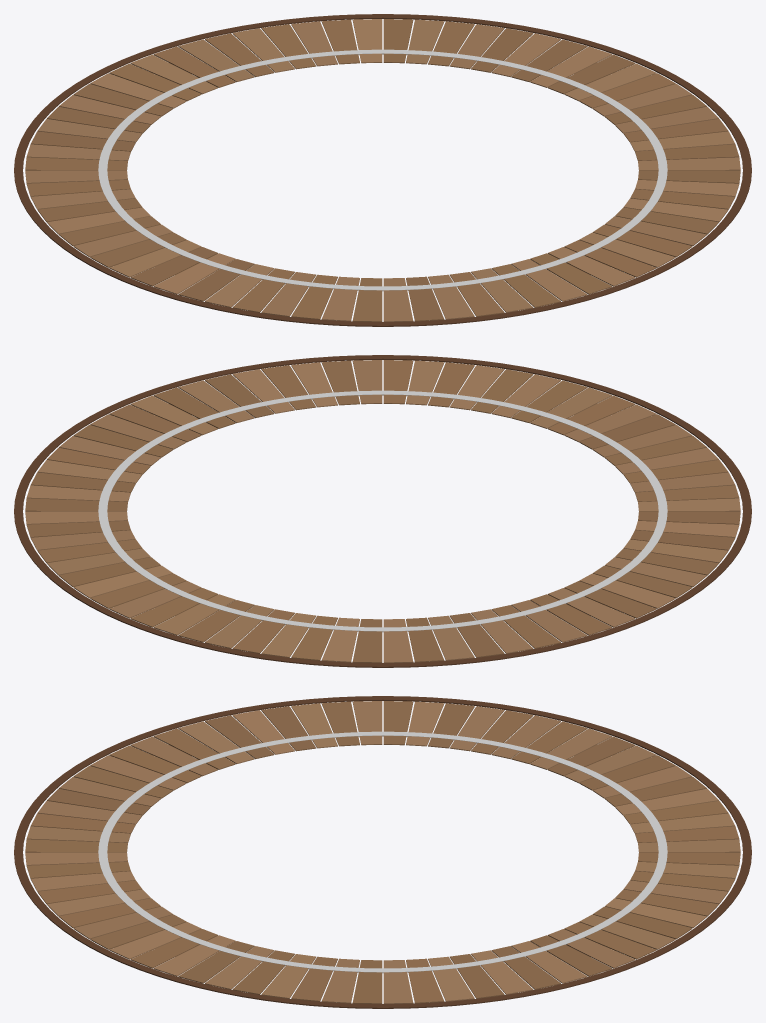
Rendered from ranch_floor_deck.fbx.
The picture shows the model from 3 angles, top to bottom: view 1: azimuth 30°, elevation 25°; view 2: azimuth 150°, elevation 25°; view 3: azimuth 270°, elevation 25°; orthographic projection.
Visible parts, largest first — view 1: ranch_floor_deck; view 2: ranch_floor_deck; view 3: ranch_floor_deck.
Part boxes in pixels (x1,y1,x2,y2): ranch_floor_deck: (14,14,751,326); ranch_floor_deck: (14,355,751,667); ranch_floor_deck: (14,696,751,1008).
Size of the model in its own units: 131 by 0.21 by 131.
